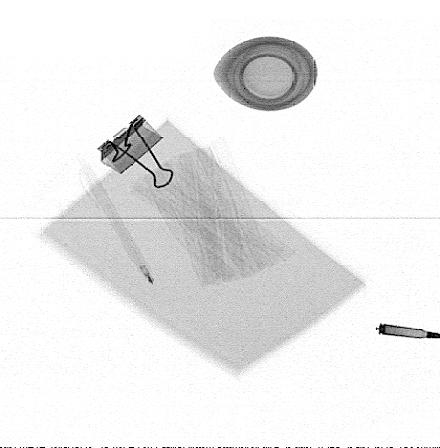Bullet: (377, 323, 439, 339)
